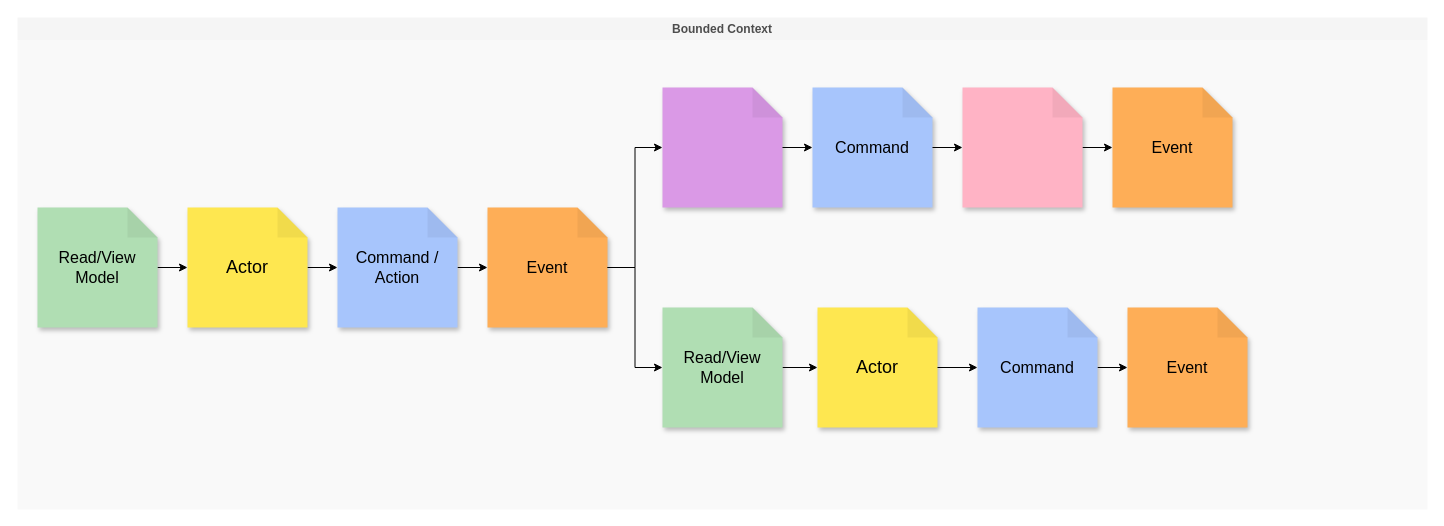
This 1444x526 diagram has some shape labels left out. Here are the shapes that lost their labels. From the top down, the centre of each, then its label:
At (x=723, y=148): "Policy / Reaction".
At (x=1023, y=148): "External System".
